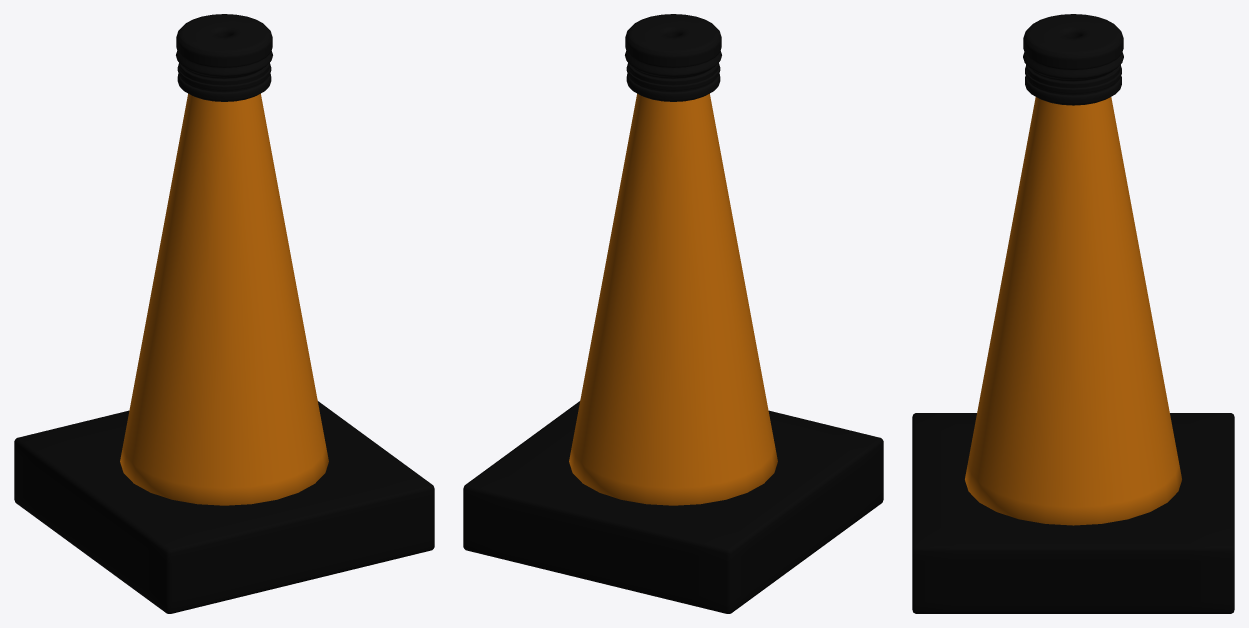
File: conbyfr.obj
3 renders of one model, left to right at view 1: azimuth 30°, elevation 25°; view 2: azimuth 150°, elevation 25°; view 3: azimuth 270°, elevation 25°, orthographic. The views are drawn at different scales.
Visible parts, largest first — view 1: Cylinder, Cube, Cylinder.010; view 2: Cylinder, Cube, Cylinder.010; view 3: Cylinder, Cube, Cylinder.010.
Boxes of the visible parts, x1=… form: Cylinder: x1=120, y1=93, x2=328, y2=505; Cube: x1=14, y1=401, x2=434, y2=613; Cylinder.010: x1=176, y1=14, x2=272, y2=101; Cylinder: x1=569, y1=93, x2=777, y2=505; Cube: x1=463, y1=401, x2=883, y2=613; Cylinder.010: x1=625, y1=14, x2=721, y2=101; Cylinder: x1=965, y1=97, x2=1181, y2=525; Cube: x1=912, y1=413, x2=1234, y2=613; Cylinder.010: x1=1023, y1=14, x2=1123, y2=105.
Size of the model in its own units: 2.72 by 4.79 by 2.72.
